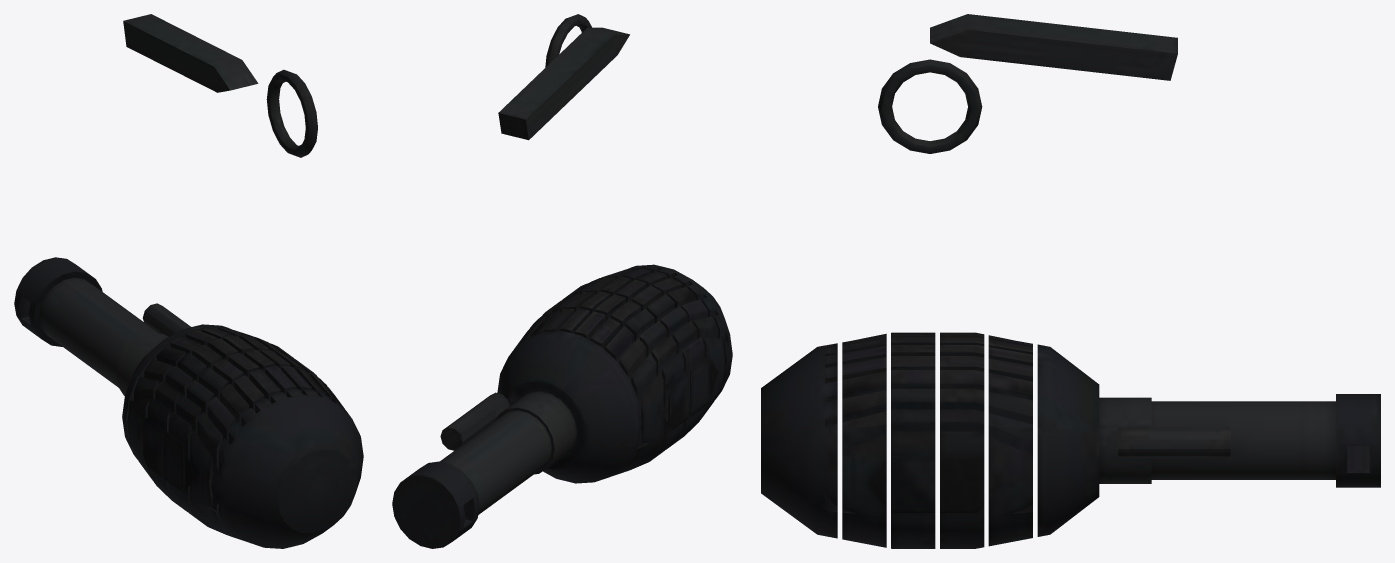
The model's file is EX_grenade_f1.glb.
3 renders of one model, left to right at view 1: azimuth 30°, elevation 25°; view 2: azimuth 150°, elevation 25°; view 3: azimuth 270°, elevation 25°, orthographic. The views are drawn at different scales.
Visible parts, largest first — view 1: EX_grenade_f1; view 2: EX_grenade_f1; view 3: EX_grenade_f1.
Boxes of the visible parts, bbox=[...] form: EX_grenade_f1: bbox=[14, 14, 363, 548]; EX_grenade_f1: bbox=[392, 14, 732, 548]; EX_grenade_f1: bbox=[761, 14, 1380, 548].
Size of the model in its own units: 0.0555 by 0.1515 by 0.165.
Materials: 1 (1 with a texture image).
